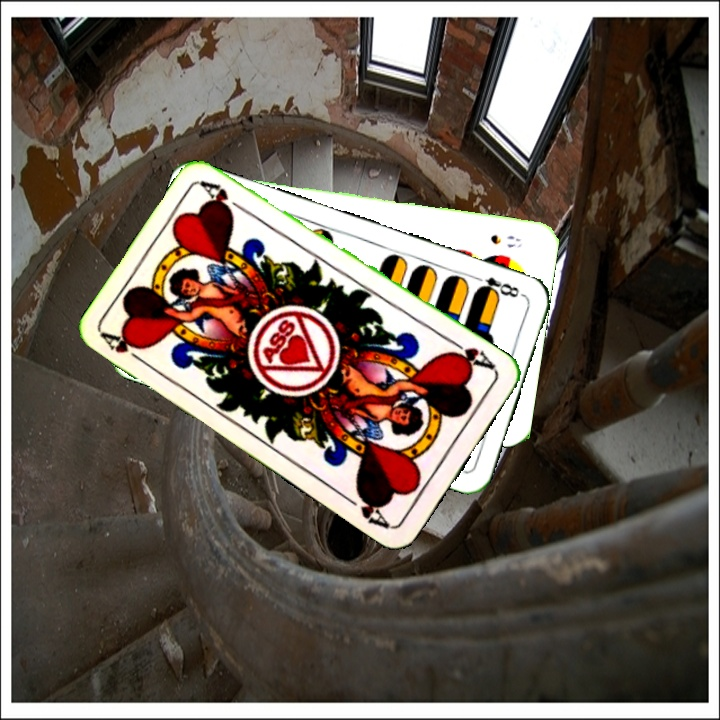E8: (469, 271, 522, 300)
HA: (98, 328, 151, 369), (443, 335, 499, 373)
S8: (486, 230, 525, 251)
